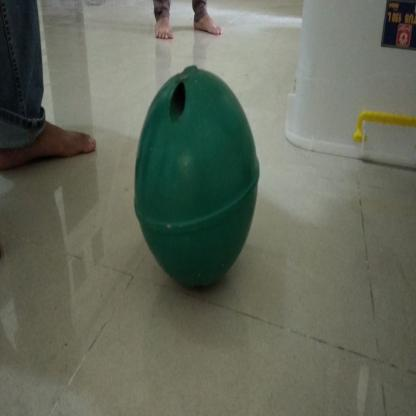green_buoy: (131, 65, 266, 300)
